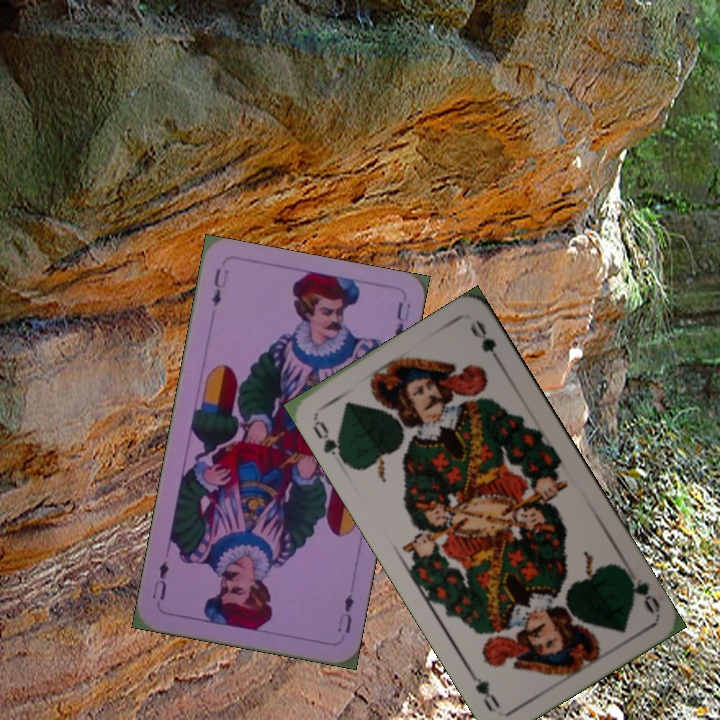EU: (207, 264, 231, 309), (333, 590, 356, 636)
GO: (620, 565, 664, 617), (308, 414, 347, 466)
